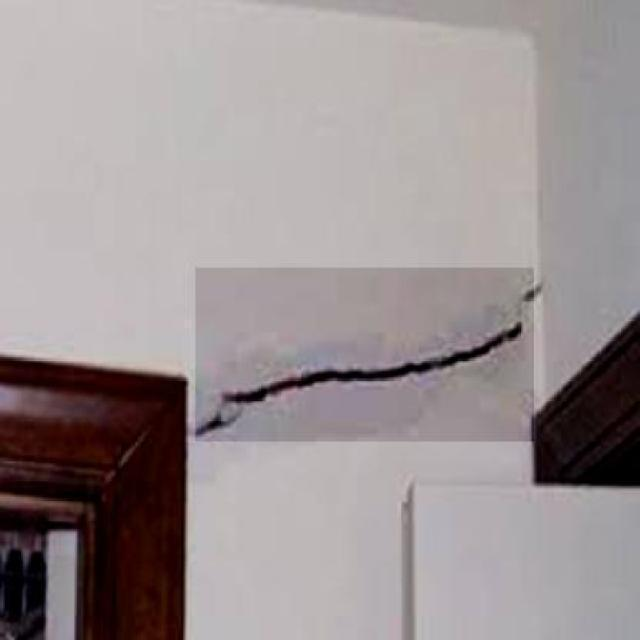SurfaceCrack: (170, 260, 538, 462)
